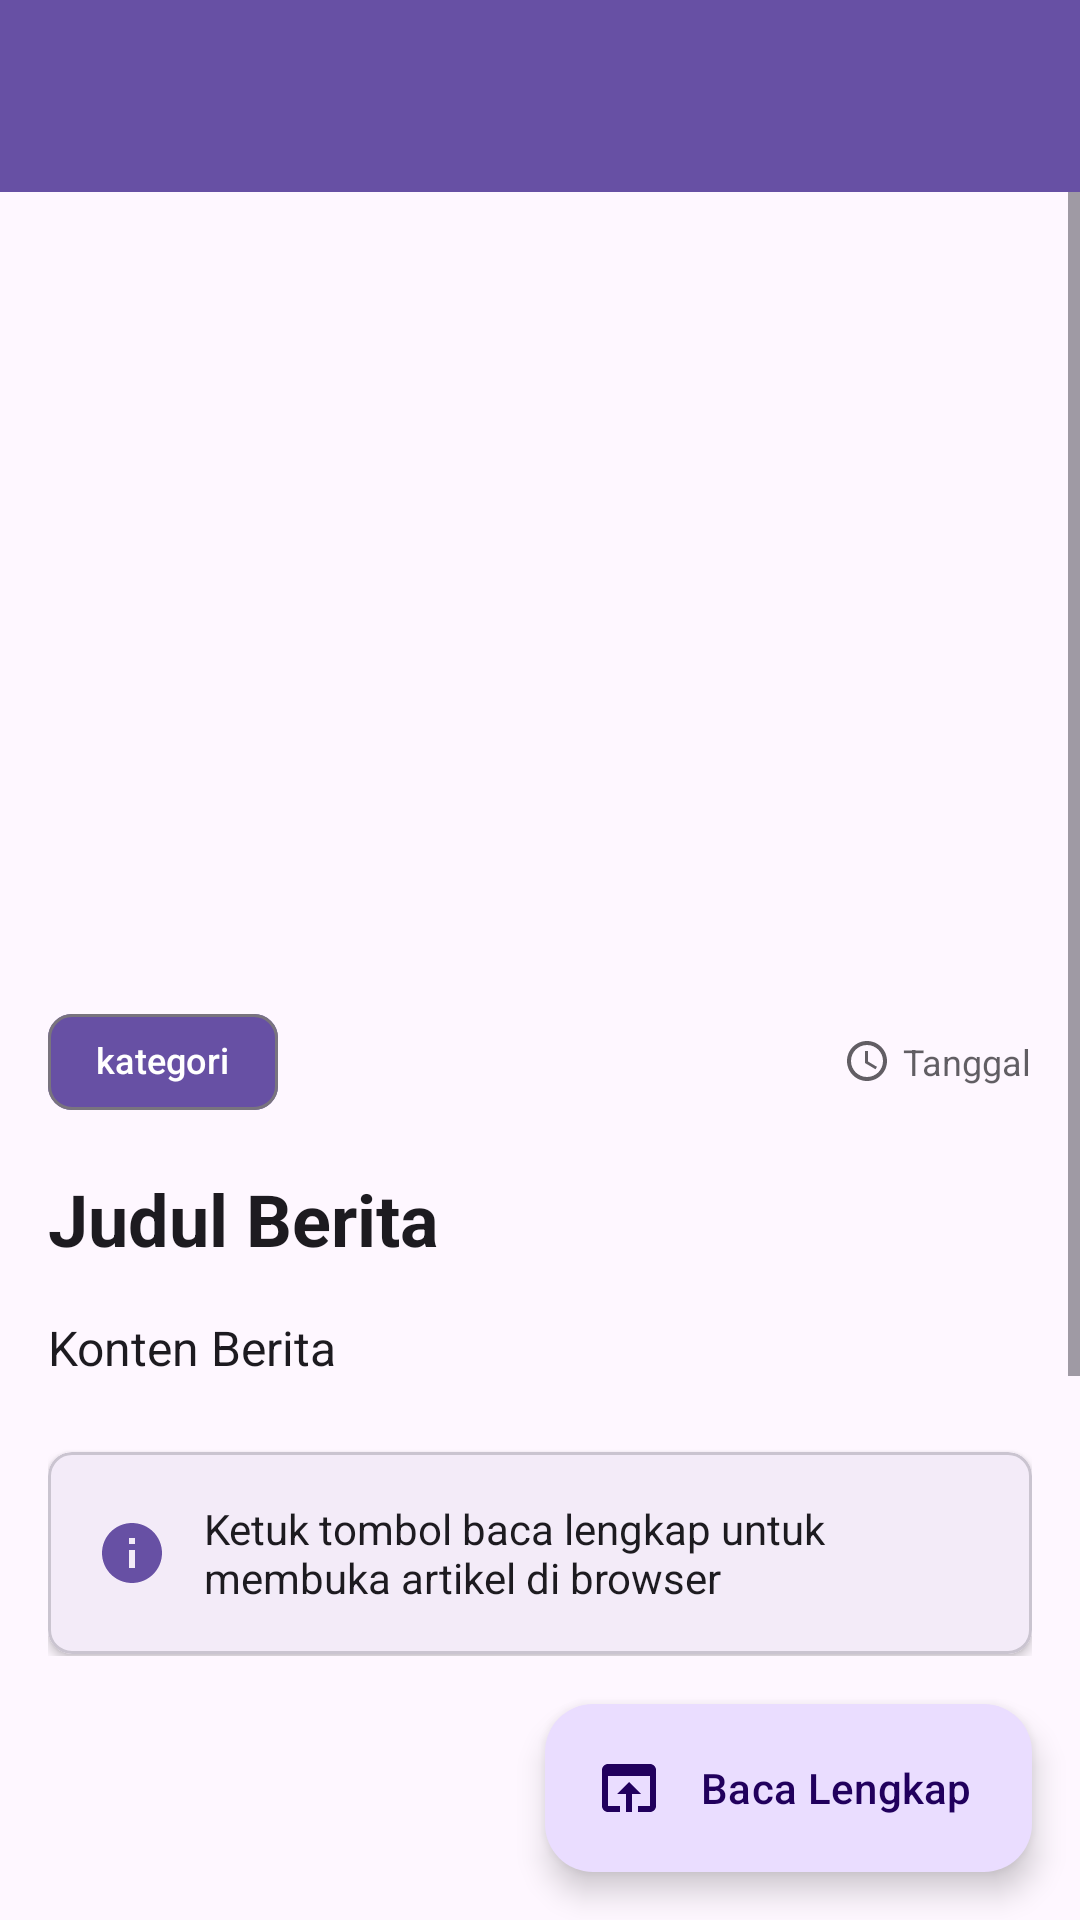

Named icons in this screenshot (1080x1920) and their centers, (x=x, y=y):
info: (x=132, y=1553)
